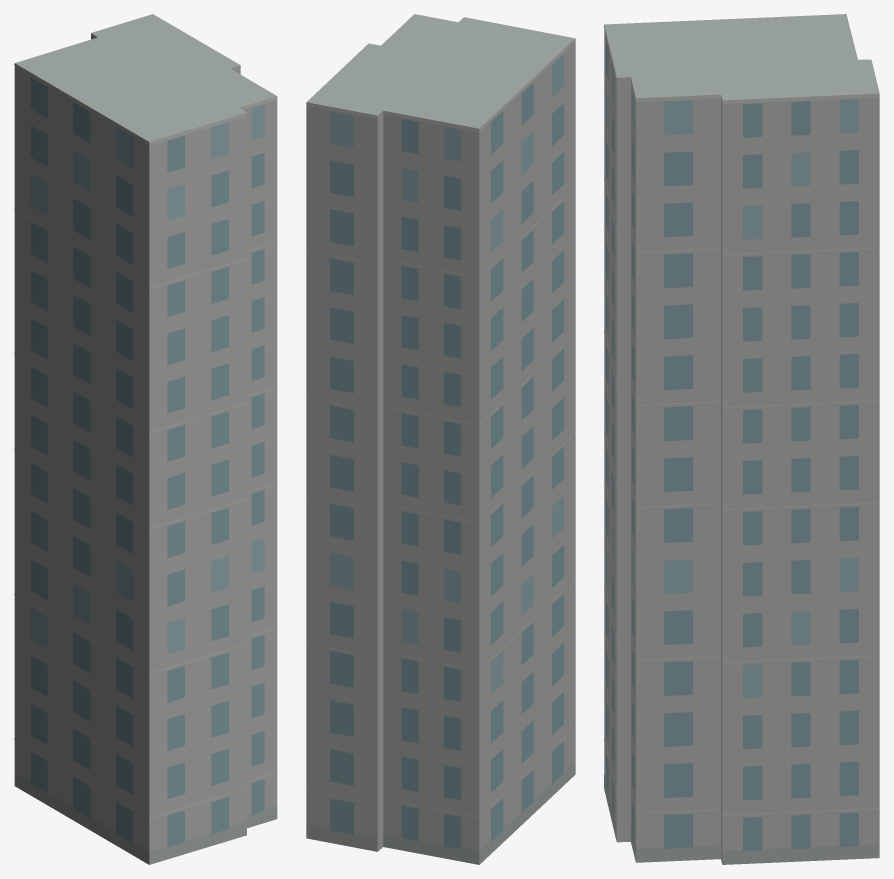
The model's file is survey-upis-32677218.glb.
The picture shows the model from 3 angles, left to right: view 1: azimuth 30°, elevation 25°; view 2: azimuth 150°, elevation 25°; view 3: azimuth 270°, elevation 25°; orthographic projection. The views are drawn at different scales.
Visible parts, largest first — view 1: survey-upis-32677218.tmp; view 2: survey-upis-32677218.tmp; view 3: survey-upis-32677218.tmp.
Part boxes in pixels (x1=…): survey-upis-32677218.tmp: x1=14, y1=14, x2=277, y2=864; survey-upis-32677218.tmp: x1=306, y1=14, x2=575, y2=864; survey-upis-32677218.tmp: x1=604, y1=14, x2=879, y2=864.
Size of the model in its own units: 11.54 by 47.5 by 15.54.
